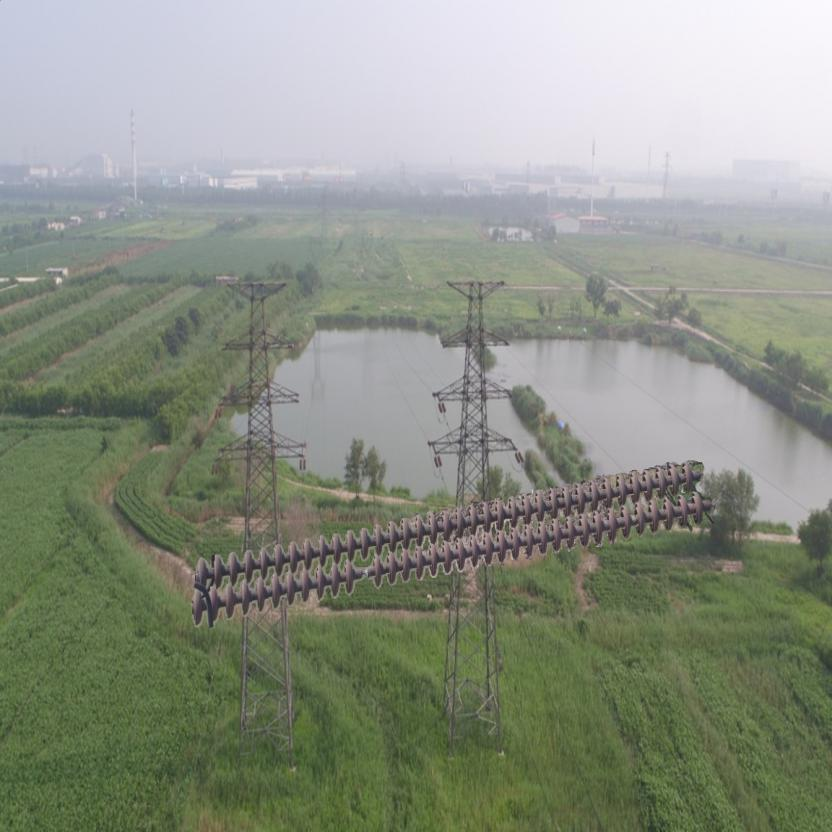defect: (338, 550, 386, 595)
